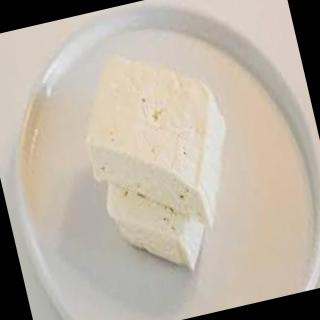Tahu: (48, 27, 299, 295)
